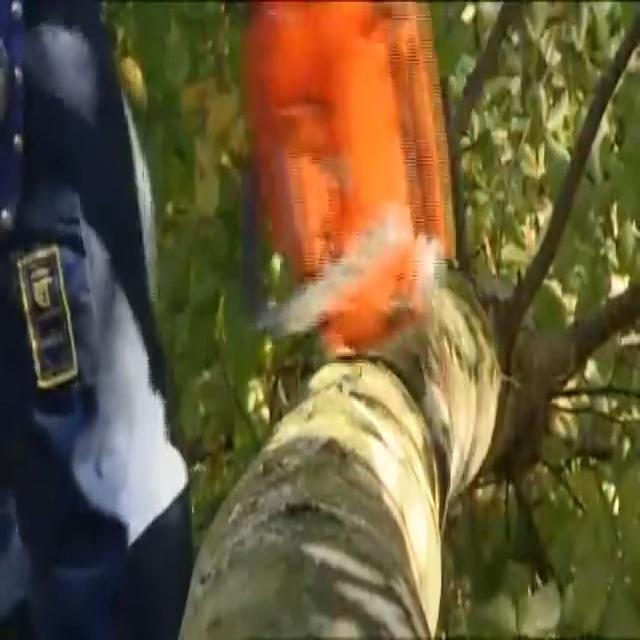Chainsaw: (202, 0, 463, 396)
